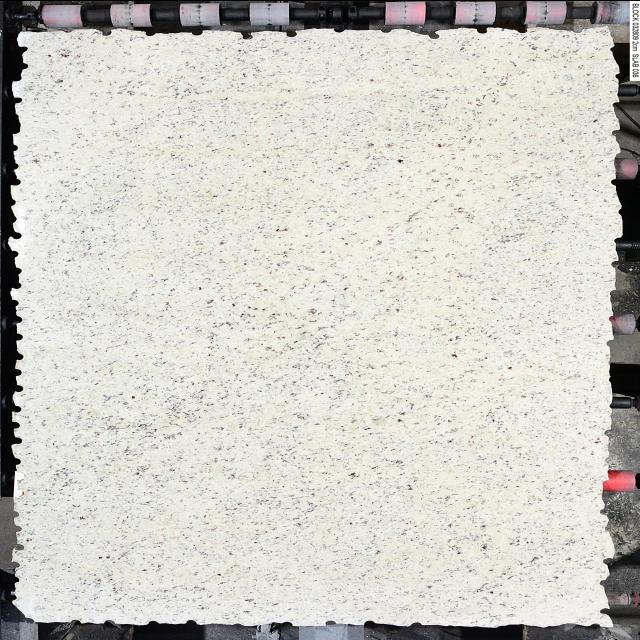chapa: (13, 28, 620, 625)
veio: (237, 28, 254, 42), (424, 29, 444, 40), (282, 27, 302, 38), (97, 26, 115, 38), (473, 23, 491, 34), (600, 555, 618, 565), (7, 176, 23, 186), (8, 229, 24, 239), (12, 382, 28, 392), (10, 404, 24, 414), (9, 436, 23, 446), (11, 542, 27, 550), (598, 606, 614, 614), (8, 421, 22, 429), (12, 95, 26, 102)
